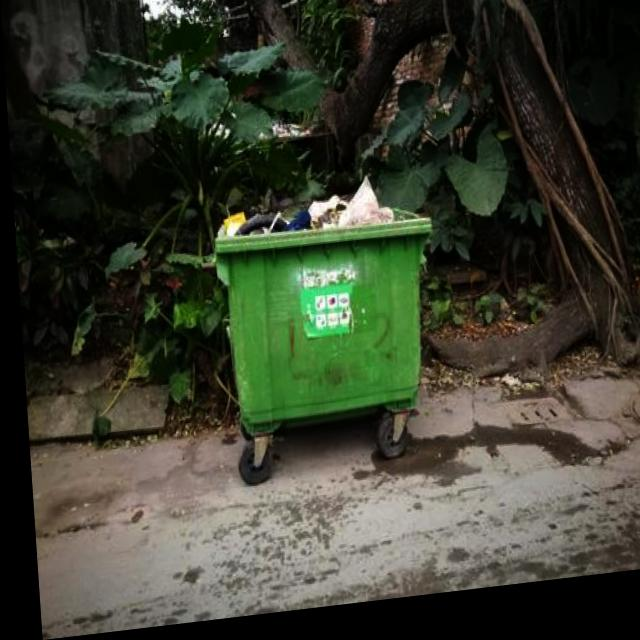overflow: (208, 176, 438, 441)
